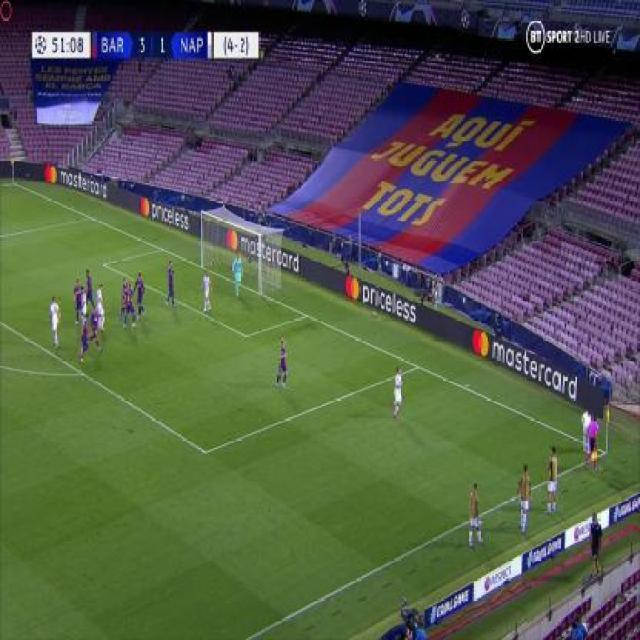player: (274, 335, 290, 391), (389, 363, 405, 419), (587, 412, 601, 471), (47, 291, 61, 347), (82, 268, 95, 325), (132, 269, 146, 320), (164, 256, 177, 310), (88, 306, 101, 360), (71, 276, 84, 327), (201, 266, 214, 312), (231, 250, 244, 296), (96, 281, 107, 332), (80, 312, 89, 366), (127, 276, 136, 329), (581, 406, 592, 449), (120, 277, 129, 322)
